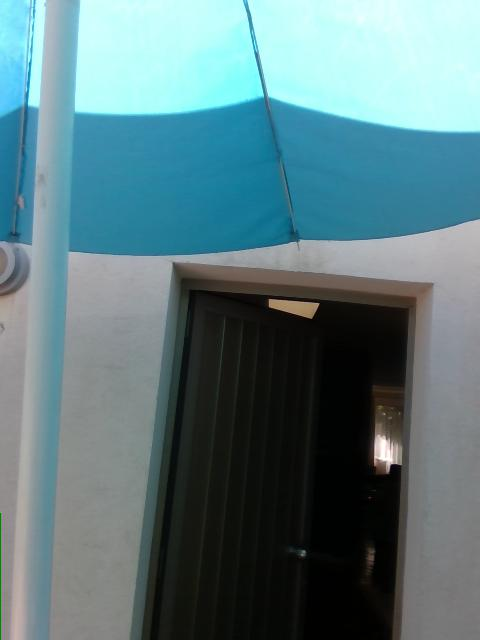semi_door: (131, 257, 433, 637)
